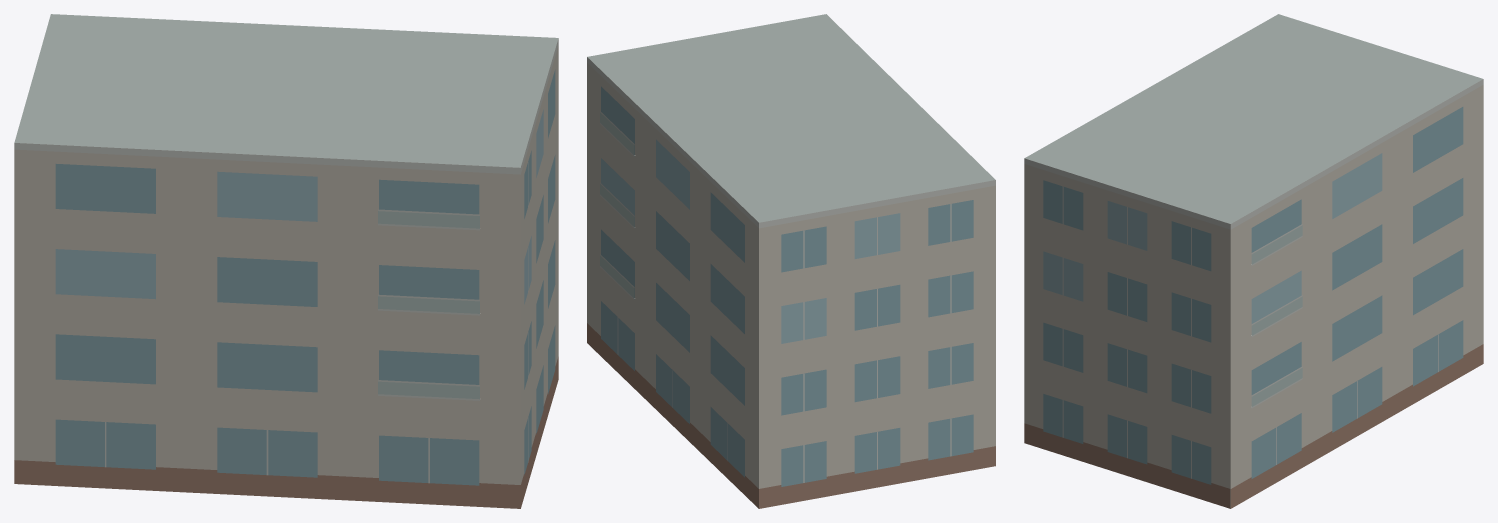
Rendered from survey-upis-32809049.glb.
The picture shows the model from 3 angles, left to right: view 1: azimuth 30°, elevation 25°; view 2: azimuth 150°, elevation 25°; view 3: azimuth 270°, elevation 25°; orthographic projection. The views are drawn at different scales.
Parts seen in each view (by area): view 1: survey-upis-32809049.tmp; view 2: survey-upis-32809049.tmp; view 3: survey-upis-32809049.tmp.
Boxes of the visible parts, x1,y1,x2,y2 form: survey-upis-32809049.tmp: (14, 14, 558, 508); survey-upis-32809049.tmp: (587, 14, 995, 508); survey-upis-32809049.tmp: (1024, 14, 1483, 508).
Bounding box in the file's own units: 19.71 × 12.45 × 18.21.
